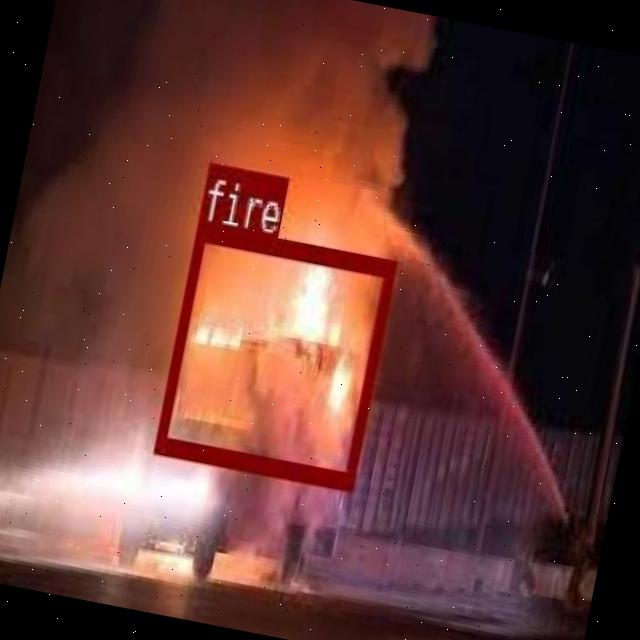fire: (153, 219, 395, 489)
